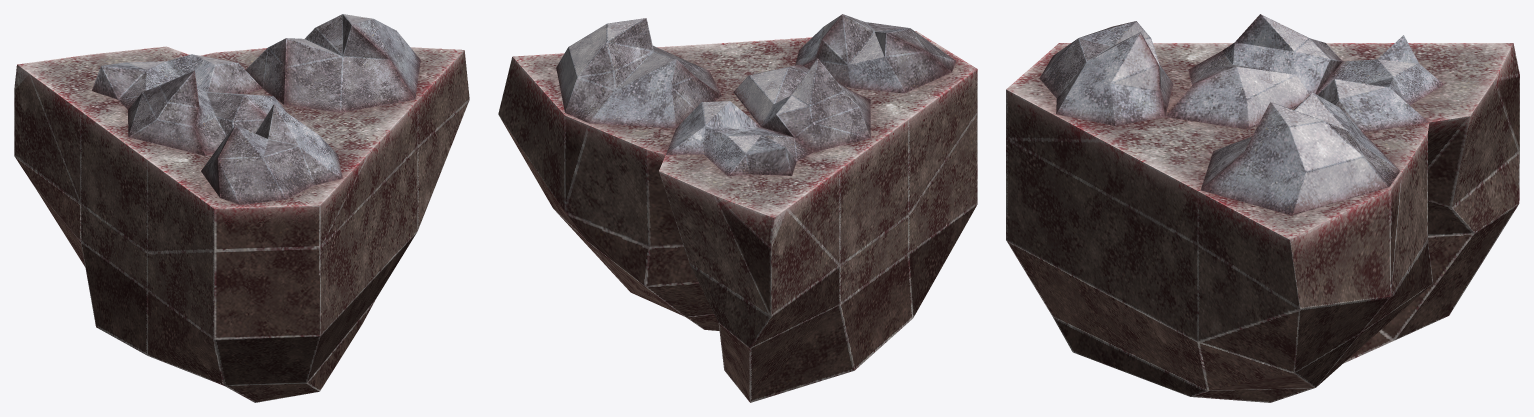
File: pedestal07.fbx
3 views of the same model, side by side, from view 1: azimuth 30°, elevation 25°; view 2: azimuth 150°, elevation 25°; view 3: azimuth 270°, elevation 25° (orthographic). The views are drawn at different scales.
Parts seen in each view (by area): view 1: pedestal07; view 2: pedestal07; view 3: pedestal07.
Part boxes in pixels (<box>): pedestal07: <box>14,14,469,402</box>; pedestal07: <box>498,14,977,402</box>; pedestal07: <box>1006,14,1519,402</box>.
Size of the model in its own units: 131 by 102 by 140.
